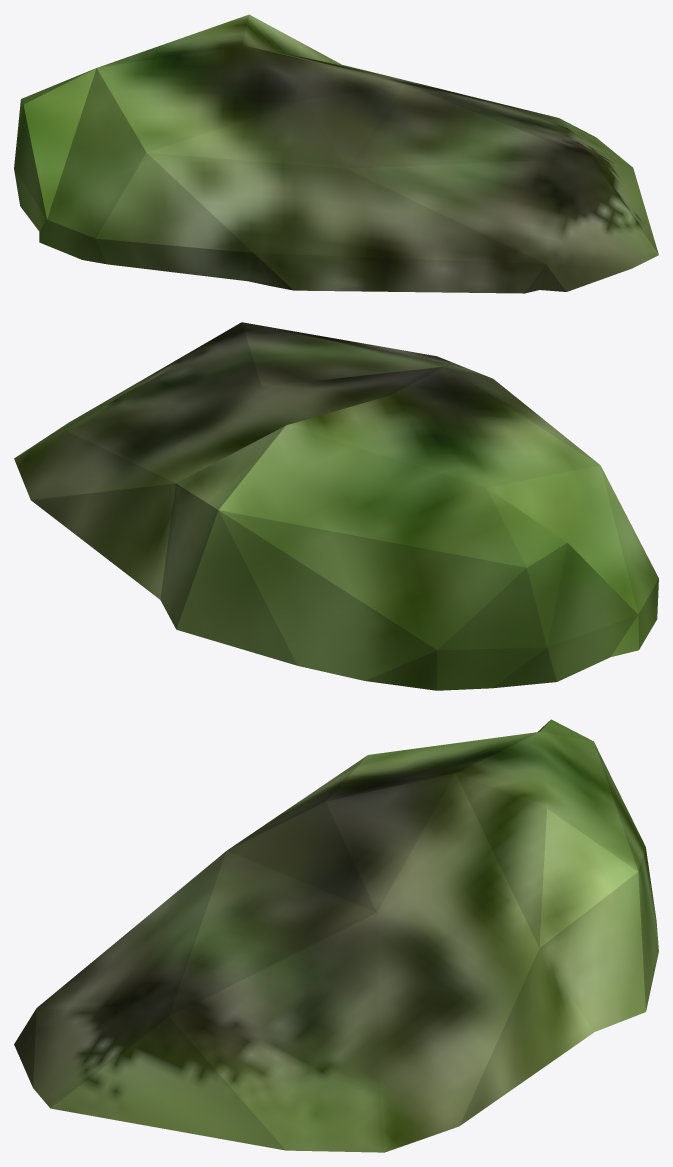
3 renders of one model, top to bottom at view 1: azimuth 30°, elevation 25°; view 2: azimuth 150°, elevation 25°; view 3: azimuth 270°, elevation 25°, orthographic. The views are drawn at different scales.
Size of the model in its own units: 0.3714 by 0.1015 by 0.3216.
1 material, 1 textured.
